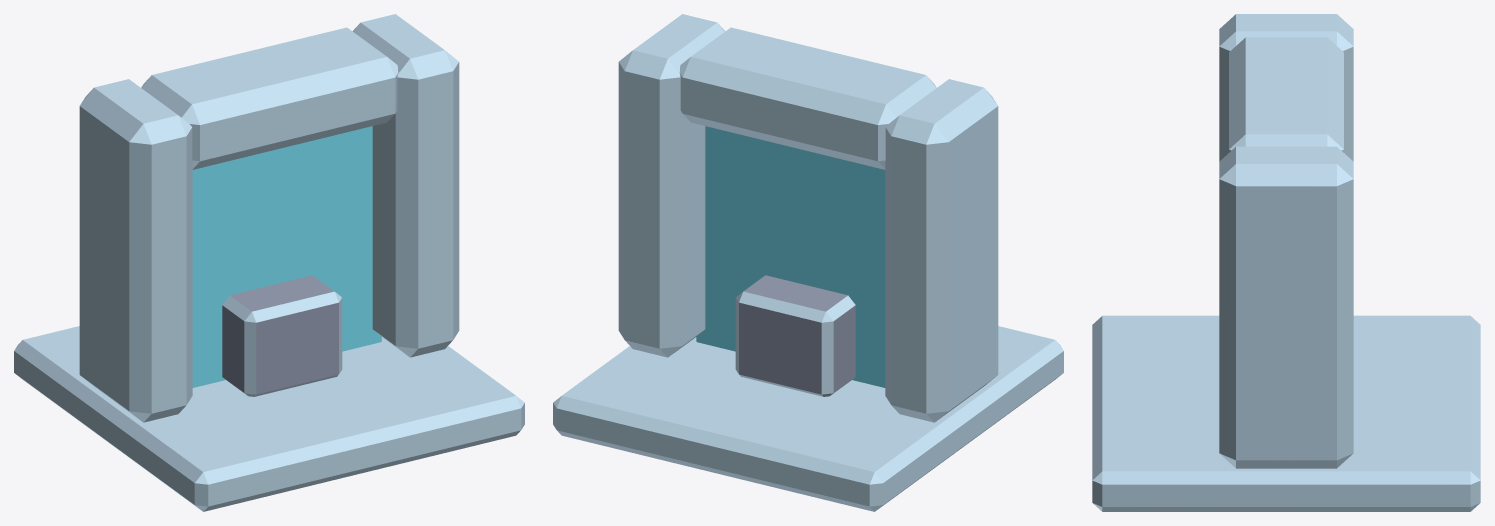
Rendered from R4X_StructuralScanner_LOD1.glb.
3 renders of one model, left to right at view 1: azimuth 30°, elevation 25°; view 2: azimuth 150°, elevation 25°; view 3: azimuth 270°, elevation 25°, orthographic.
Parts seen in each view (by area): view 1: R4X_StructuralScanner_LOD1; view 2: R4X_StructuralScanner_LOD1; view 3: R4X_StructuralScanner_LOD1.
Part boxes in pixels (x1,y1,x2,y2): R4X_StructuralScanner_LOD1: (14,14,524,511); R4X_StructuralScanner_LOD1: (553,14,1063,511); R4X_StructuralScanner_LOD1: (1092,14,1480,511).
Bounding box in the file's own units: 0.52 × 0.5145 × 0.52.
